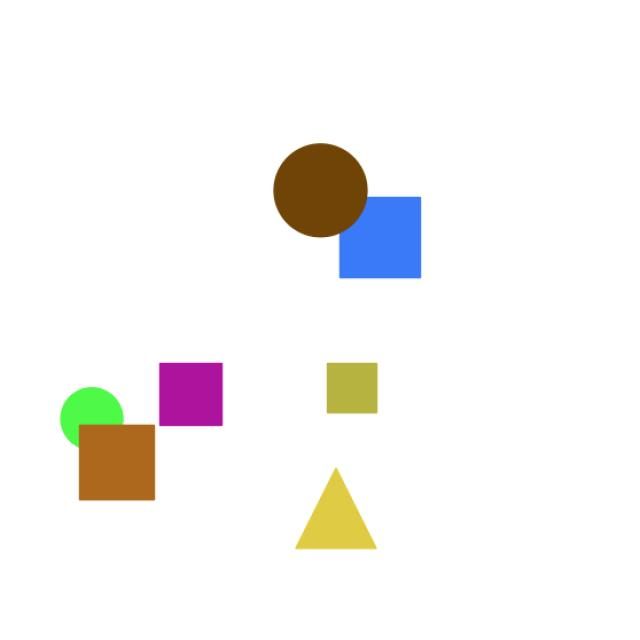Circle: (265, 139, 374, 245), (57, 384, 129, 452)
Triangle: (273, 458, 422, 574)
square: (330, 180, 460, 288), (74, 417, 168, 518), (144, 348, 236, 442), (316, 355, 412, 428)
